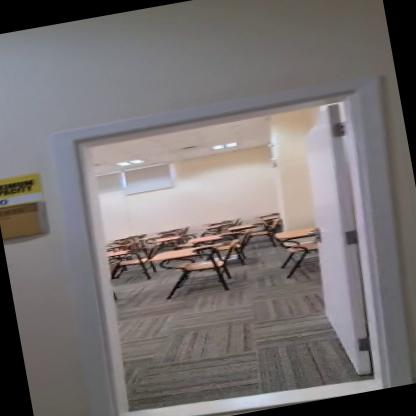open: (26, 48, 415, 415)
